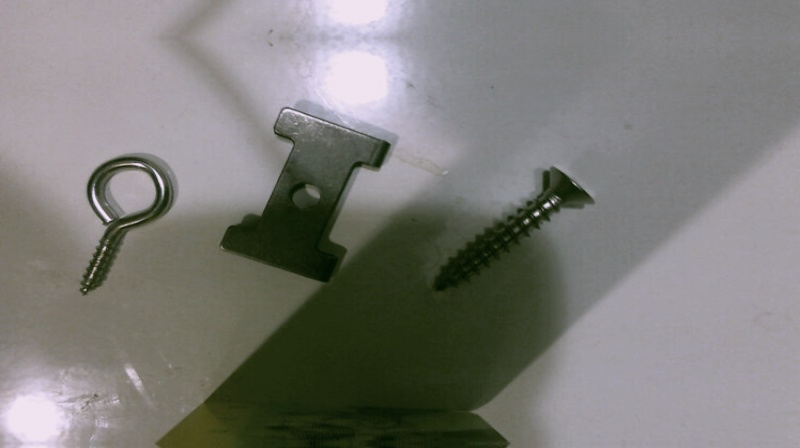O001: (73, 154, 178, 301)
O002: (217, 105, 398, 285)
S001: (425, 161, 603, 297)
